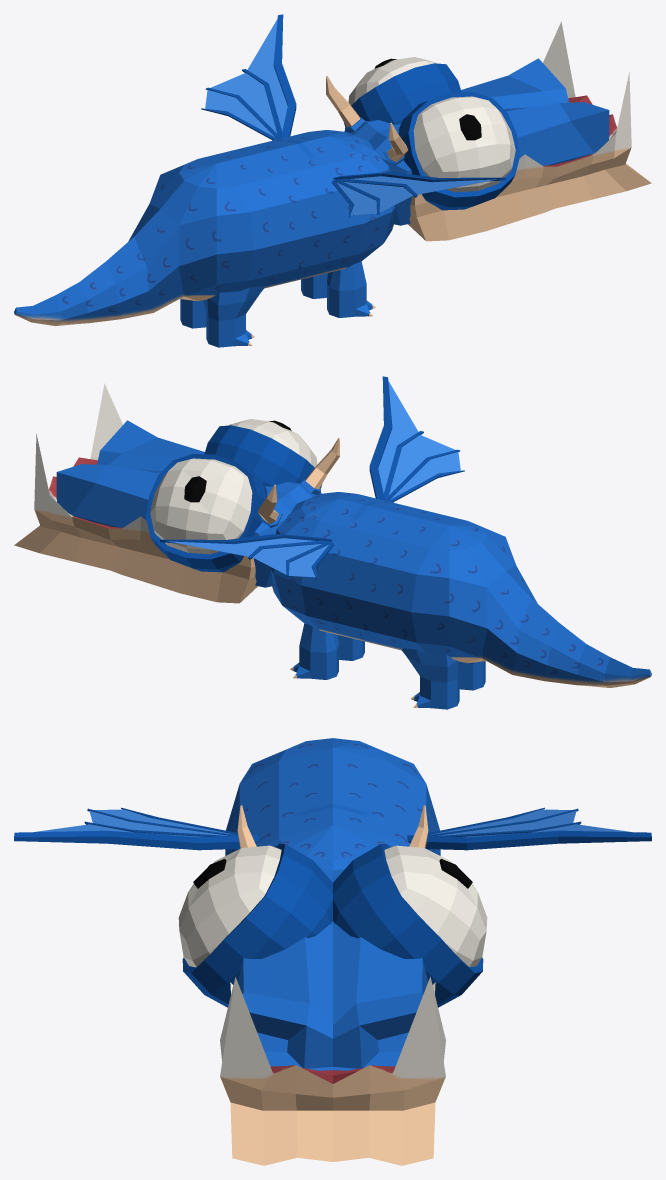
File: Baby Dragon 1.fbx
The picture shows the model from 3 angles, top to bottom: view 1: azimuth 30°, elevation 25°; view 2: azimuth 150°, elevation 25°; view 3: azimuth 270°, elevation 25°; orthographic projection. The views are drawn at different scales.
Visible parts, largest first — view 1: Sphere; view 2: Sphere; view 3: Sphere.
Boxes of the visible parts, left/top/right/bottom form: Sphere: left=14, top=14, right=651, bottom=347; Sphere: left=14, top=376, right=651, bottom=709; Sphere: left=14, top=738, right=651, bottom=1165.
Size of the model in its own units: 444 by 138 by 283.
